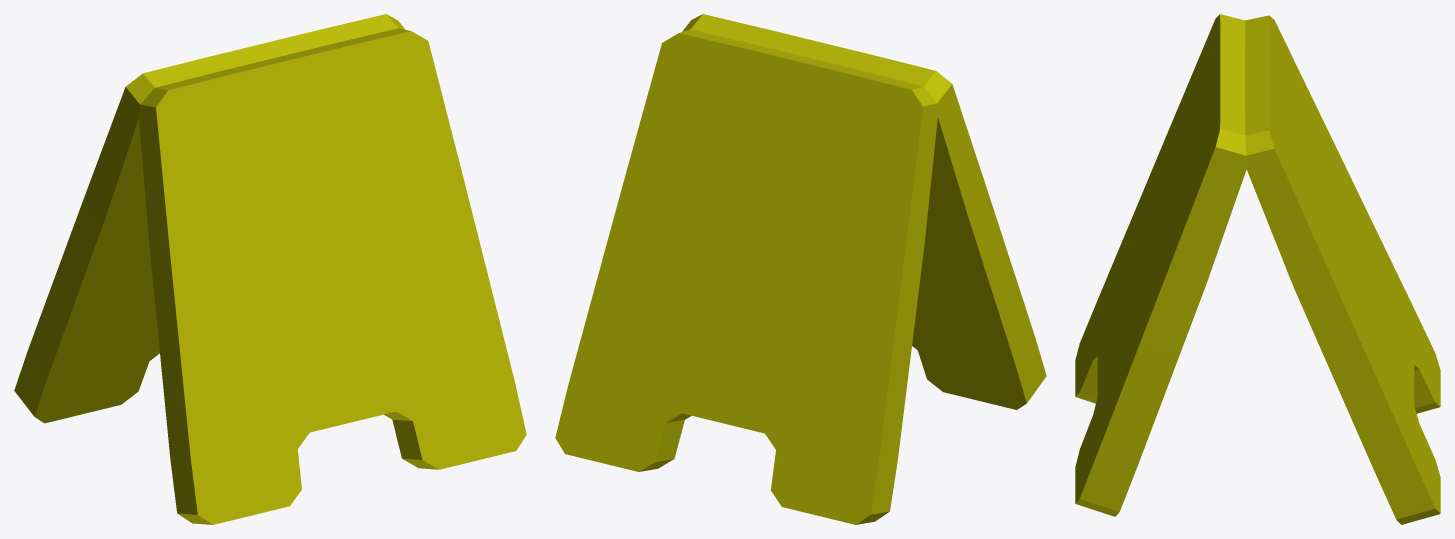
File: market_warning.glb
3 renders of one model, left to right at view 1: azimuth 30°, elevation 25°; view 2: azimuth 150°, elevation 25°; view 3: azimuth 270°, elevation 25°, orthographic. The views are drawn at different scales.
Parts seen in each view (by area): view 1: market_warning; view 2: market_warning; view 3: market_warning.
Boxes of the visible parts, bbox=[...] form: market_warning: bbox=[14, 14, 526, 524]; market_warning: bbox=[555, 14, 1046, 524]; market_warning: bbox=[1075, 14, 1440, 524].
Bounding box in the file's own units: 0.8751 × 1 × 0.8695.
Materials: 1 (1 with a texture image).
